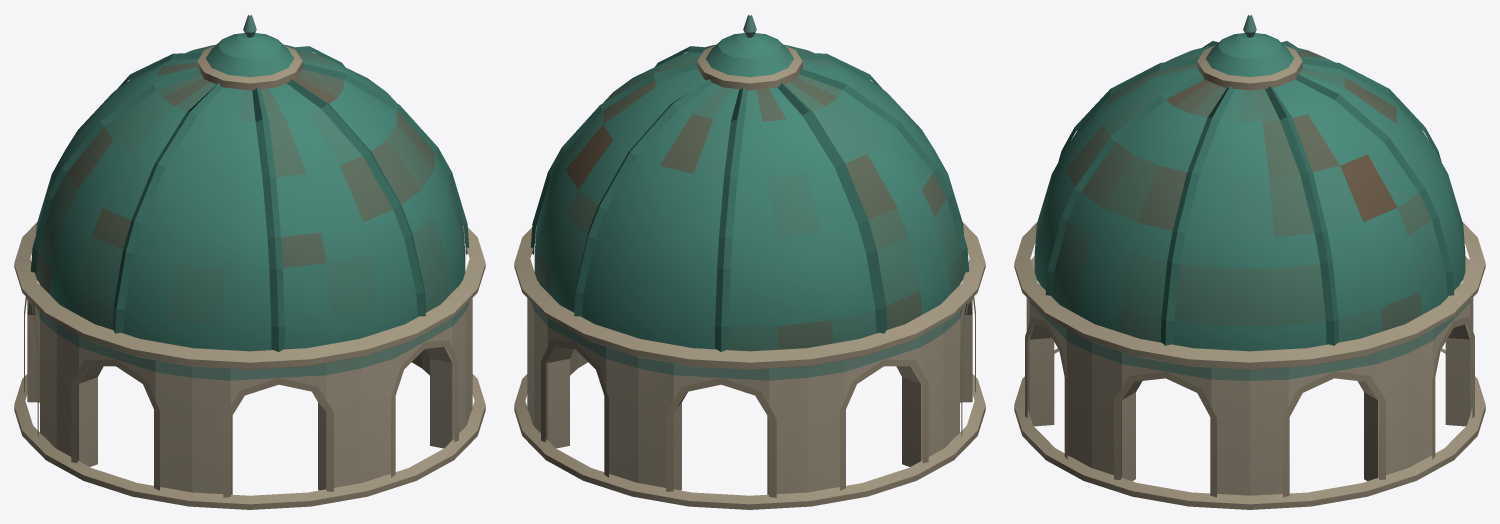
Rendered from dome.whole_8.copper.glb.
3 views of the same model, side by side, from view 1: azimuth 30°, elevation 25°; view 2: azimuth 150°, elevation 25°; view 3: azimuth 270°, elevation 25° (orthographic).
Visible parts, largest first — view 1: dome_whole_8_copper; view 2: dome_whole_8_copper; view 3: dome_whole_8_copper.
Part boxes in pixels (bbox=[...]): dome_whole_8_copper: bbox=[14, 15, 485, 509]; dome_whole_8_copper: bbox=[514, 15, 985, 509]; dome_whole_8_copper: bbox=[1014, 15, 1485, 509].
Size of what is drawn, in the model's own units: 7.6 by 7.03 by 7.6.
